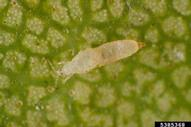Thrips: (52, 35, 147, 79)
